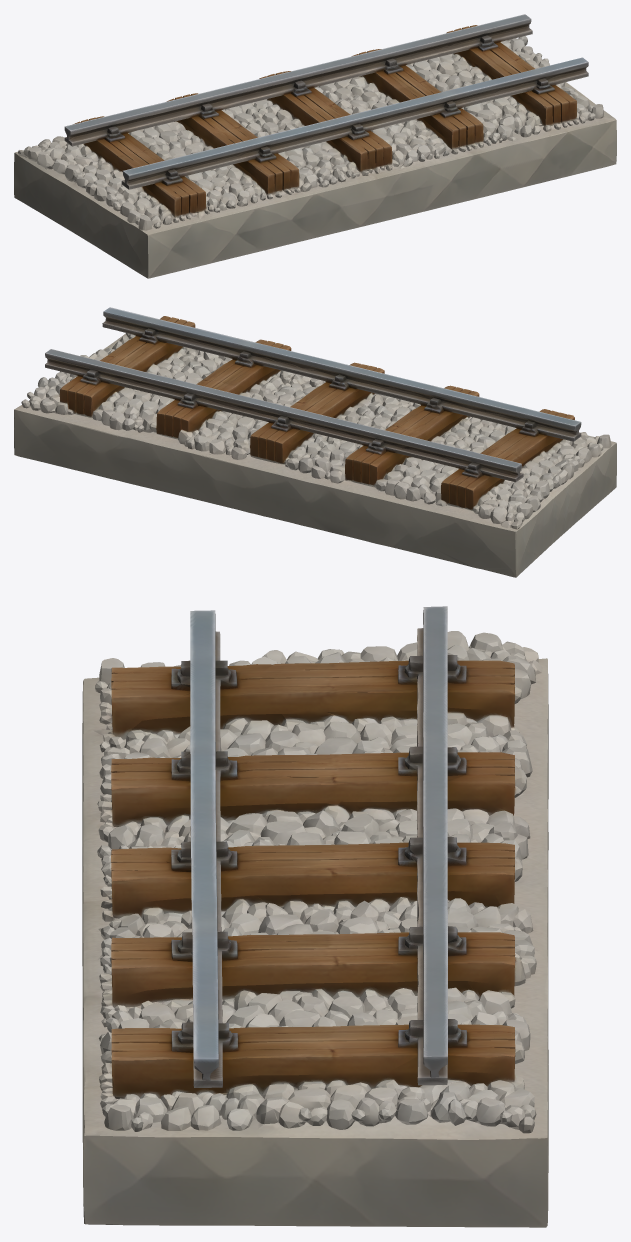
Rendered from source.glb.
3 renders of one model, top to bottom at view 1: azimuth 30°, elevation 25°; view 2: azimuth 150°, elevation 25°; view 3: azimuth 270°, elevation 25°, orthographic. The views are drawn at different scales.
Visible parts, largest first — view 1: model; view 2: model; view 3: model.
Boxes of the visible parts, <box> form: model: <box>14,14,616,278</box>; model: <box>14,307,616,577</box>; model: <box>82,606,548,1227</box>.
Bounding box in the file's own units: 1.9 × 0.3124 × 0.7801.
Materials: 1 (1 with a texture image).
